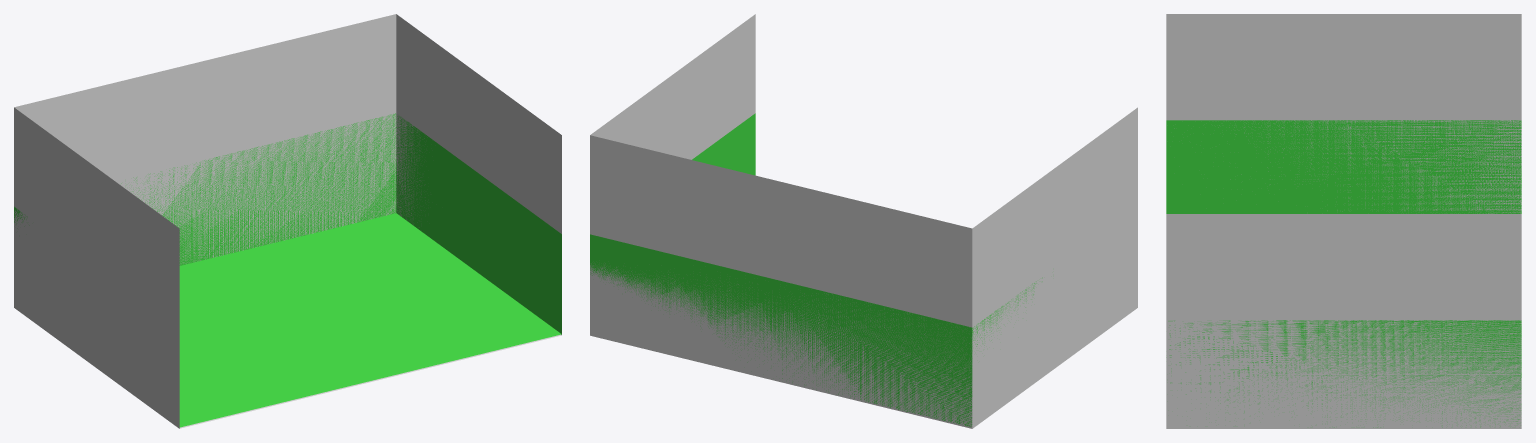
Rendered from arcade.fbx.
3 renders of one model, left to right at view 1: azimuth 30°, elevation 25°; view 2: azimuth 150°, elevation 25°; view 3: azimuth 270°, elevation 25°, orthographic. The views are drawn at different scales.
Parts seen in each view (by area): view 1: example, back, left, right, bottom; view 2: back, left, example, right; view 3: right, example, left.
Part boxes in pixels (box(x1,y1,x2,y2)): example: box(14, 113, 561, 427); back: box(14, 14, 396, 263); left: box(14, 107, 179, 428); right: box(396, 14, 561, 334); bottom: box(179, 334, 561, 428); back: box(590, 135, 972, 428); left: box(972, 107, 1137, 428); example: box(590, 113, 1042, 426); right: box(590, 14, 755, 159); right: box(1166, 214, 1521, 428); example: box(1166, 120, 1521, 427); left: box(1166, 14, 1521, 213).
Size of the model in its own units: 4000 by 2004 by 3000.
